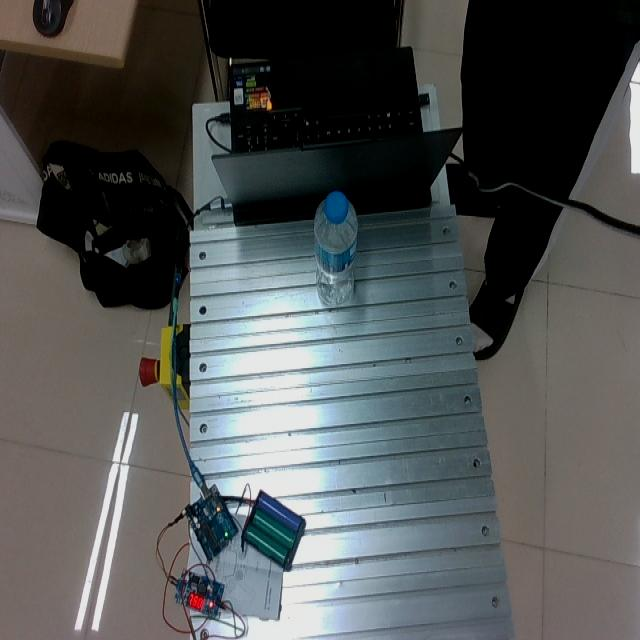lavie: (313, 190, 358, 306)
